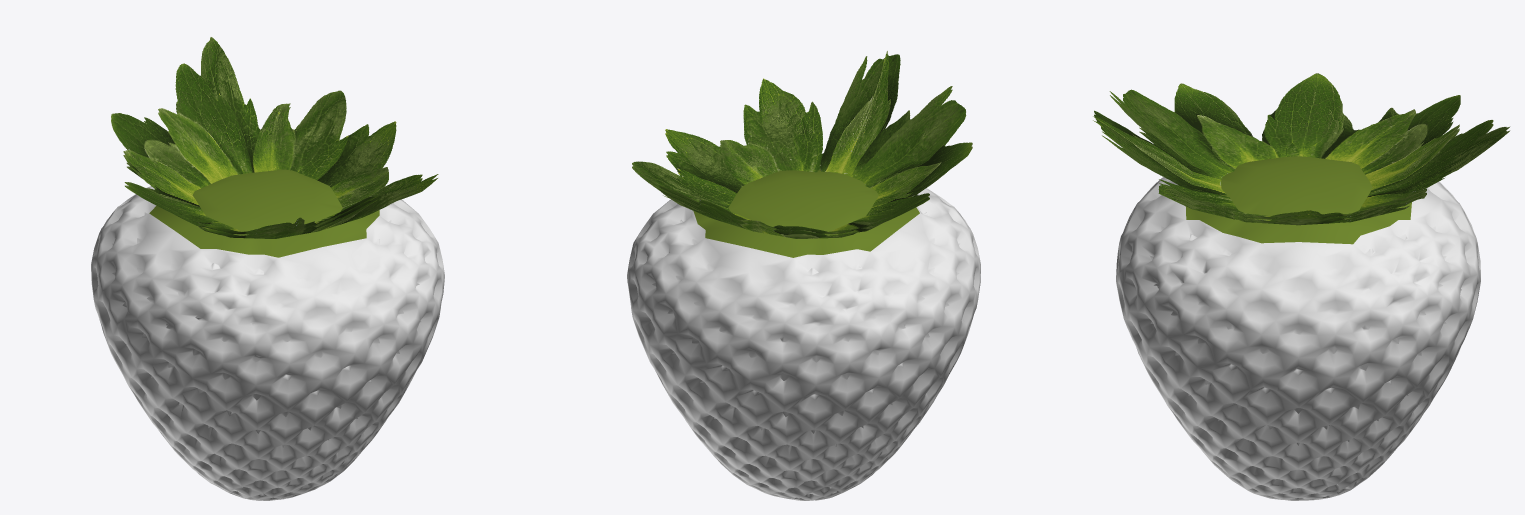
File: Berry_50.fbx
3 views of the same model, side by side, from view 1: azimuth 30°, elevation 25°; view 2: azimuth 150°, elevation 25°; view 3: azimuth 270°, elevation 25° (orthographic). The views are drawn at different scales.
Visible parts, largest first — view 1: Berry_50, Berry_50.001, Berry_50.002; view 2: Berry_50, Berry_50.001, Berry_50.002; view 3: Berry_50, Berry_50.001, Berry_50.002.
Part boxes in pixels (<box>): Berry_50: <box>91,169,444,500</box>; Berry_50.001: <box>111,37,438,234</box>; Berry_50.002: <box>111,71,437,238</box>; Berry_50: <box>627,169,980,500</box>; Berry_50.001: <box>632,51,972,234</box>; Berry_50.002: <box>632,60,972,238</box>; Berry_50: <box>1116,156,1480,500</box>; Berry_50.001: <box>1093,73,1510,219</box>; Berry_50.002: <box>1093,95,1510,225</box>.
Bounding box in the file's own units: 4.74 × 4.77 × 4.75.
Materials: 4 (1 with a texture image).
